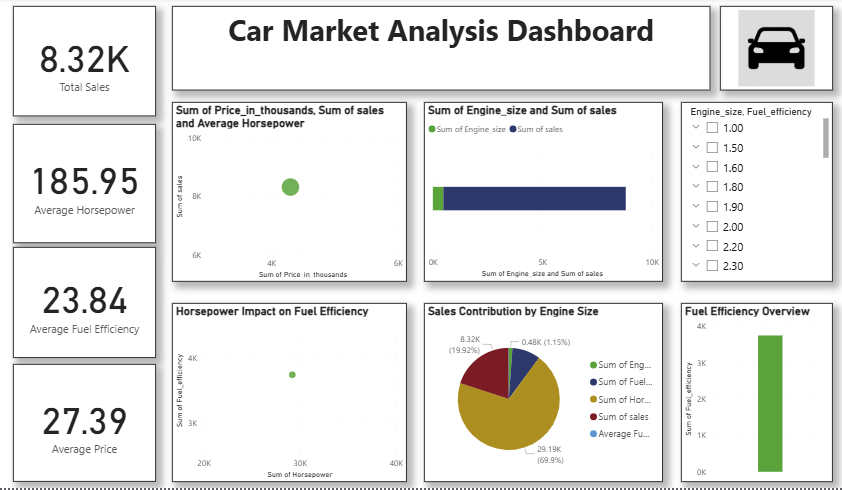

Layout of this report page (visuals, bound fields, positions):
{"tool":"powerbi","page":{"name":"Page 1","canvas":[1280,720],"ordinal":0},"visuals":[{"type":"card","fields":{"Values":["Sheet1.Total Sales"]},"box":[61.7,11.8,210.1,161.6],"z":0},{"type":"card","fields":{"Values":["Sheet1.Average Horsepower"]},"box":[61.7,185.1,210.1,174.9],"z":1000},{"type":"card","fields":{"Values":["Sheet1.Average Fuel Efficiency"]},"box":[61.7,365.9,210.1,163.1],"z":2000},{"type":"card","fields":{"Values":["Sheet1.Average Price"]},"box":[61.7,537.8,210.1,173.4],"z":3000},{"type":"scatterChart","fields":{"X":["Sum(Sheet1.Price_in_thousands)"],"Y":["Sum(Sheet1.sales)"],"Size":["Sheet1.Average Horsepower"]},"box":[295.6,152.9,351.1,263.7],"z":4000},{"type":"scatterChart","title":"Horsepower Impact on Fuel Efficiency","fields":{"X":["Sum(Sheet1.Horsepower)"],"Y":["Sum(Sheet1.Fuel_efficiency)"]},"box":[295.6,448.5,351.1,262],"z":5000},{"type":"barChart","fields":{"Y":["Sum(Sheet1.Engine_size)","Sum(Sheet1.sales)"]},"box":[665.2,152.9,351.1,263.7],"z":6000},{"type":"clusteredColumnChart","title":"Fuel Efficiency Overview","fields":{"Y":["Sum(Sheet1.Fuel_efficiency)"]},"box":[665.2,448.5,351.1,262],"z":7000},{"type":"textbox","box":[295.6,11.8,791.2,124.3],"z":8000},{"type":"pieChart","title":"Sales Contribution by Engine Size","fields":{"Y":["Sum(Sheet1.Engine_size)","Sum(Sheet1.Fuel_efficiency)","Sum(Sheet1.Horsepower)","Sum(Sheet1.sales)","Sheet1.Average Fuel Efficiency"]},"box":[1029.7,448.5,236.9,262],"z":9000},{"type":"slicer","fields":{"Values":["Sheet1.Engine_size","Sheet1.Fuel_efficiency"]},"box":[1043.1,152.9,223.4,263.7],"z":10000},{"type":"image","box":[1100.3,11.8,166.3,124.3],"z":12000}]}

Visuals, with their boxes in screenshot pixels (x1, y1, x2, y2):
card - Sheet1.Total Sales: BBox(13, 6, 154, 114)
card - Sheet1.Average Horsepower: BBox(13, 122, 154, 240)
card - Sheet1.Average Fuel Efficiency: BBox(13, 244, 154, 354)
card - Sheet1.Average Price: BBox(13, 360, 154, 476)
scatterChart - Sum(Sheet1.Price_in_thousands) x Sum(Sheet1.sales): BBox(170, 101, 406, 278)
"Horsepower Impact on Fuel Efficiency" scatterChart: BBox(170, 299, 406, 476)
barChart - Sum(Sheet1.Engine_size) x Sum(Sheet1.sales): BBox(419, 101, 655, 278)
"Fuel Efficiency Overview" clusteredColumnChart: BBox(419, 299, 655, 476)
textbox: BBox(170, 6, 702, 89)
"Sales Contribution by Engine Size" pieChart: BBox(664, 299, 823, 476)
slicer - Sheet1.Engine_size x Sheet1.Fuel_efficiency: BBox(673, 101, 823, 278)
image: BBox(712, 6, 823, 89)
